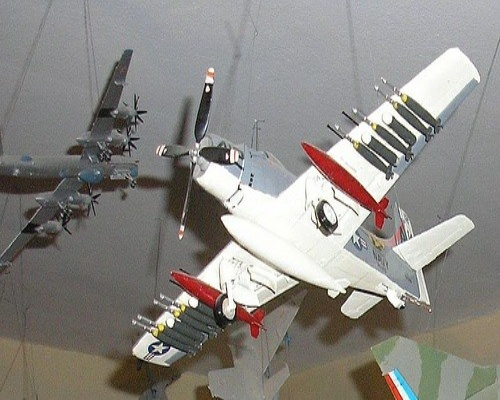plane: (132, 45, 480, 371), (3, 50, 148, 269)
